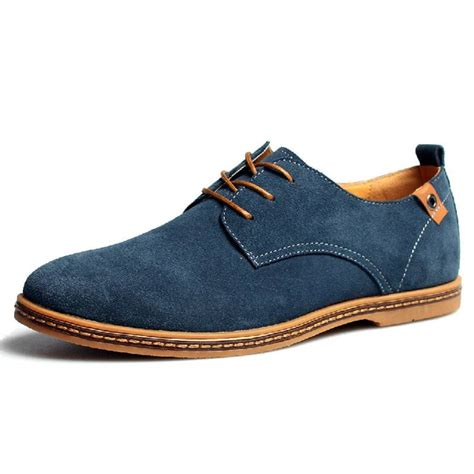gamuza: (18, 140, 462, 333)
